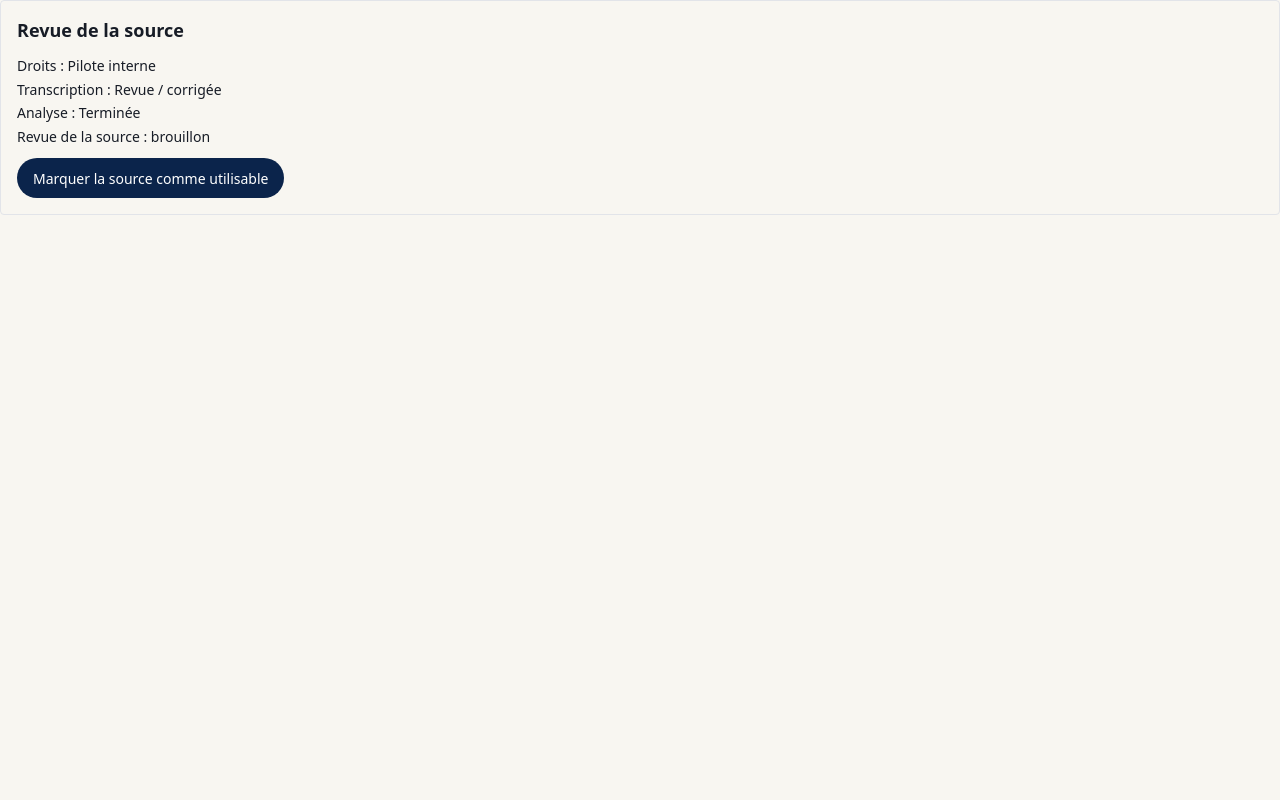
Test: explicit source review › displays server refusal REVIEWED_TRANSCRIPTION_REQUIRED
Click the button "Marquer la source comme utilisable" at {"x": 151, "y": 178}, box [17, 158, 284, 198]
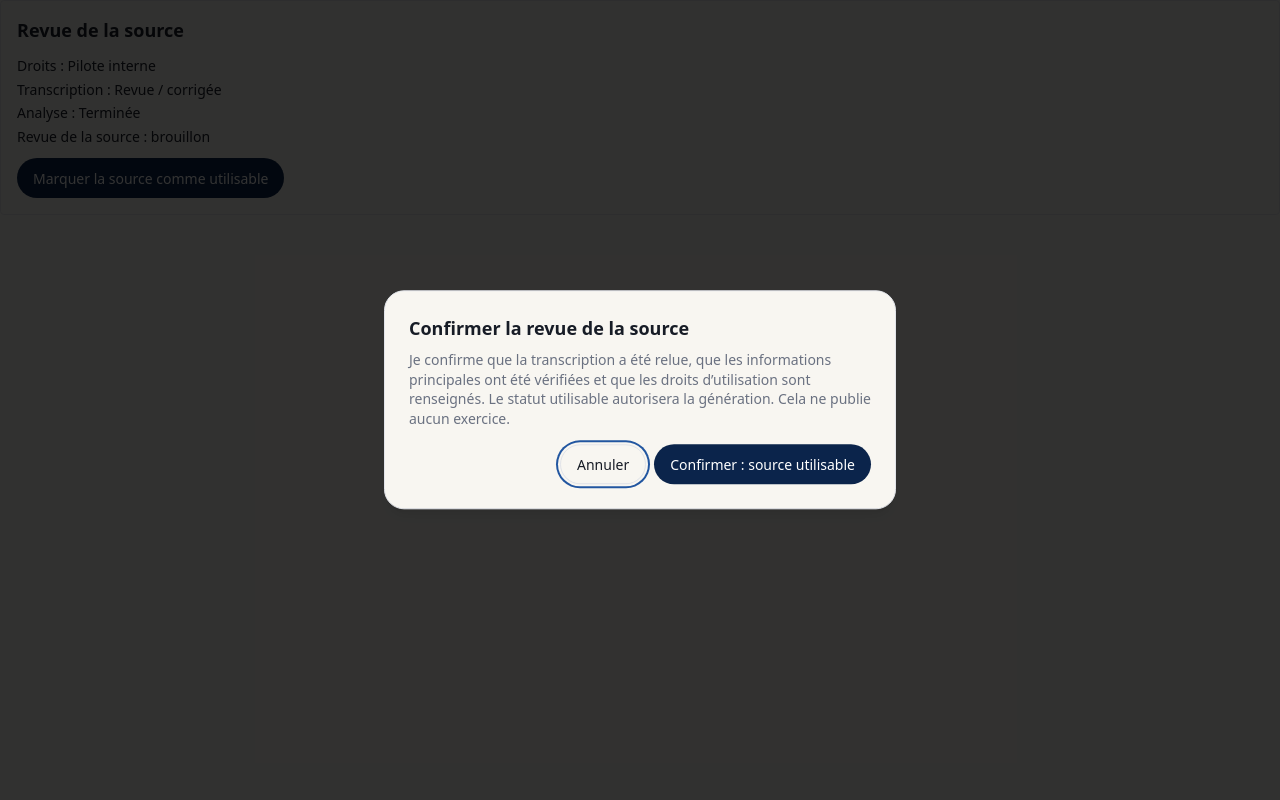
Expected: the button "Confirmer : source utilisable" is shown
Click the button "Confirmer : source utilisable" at {"x": 763, "y": 465}, box [654, 445, 871, 485]
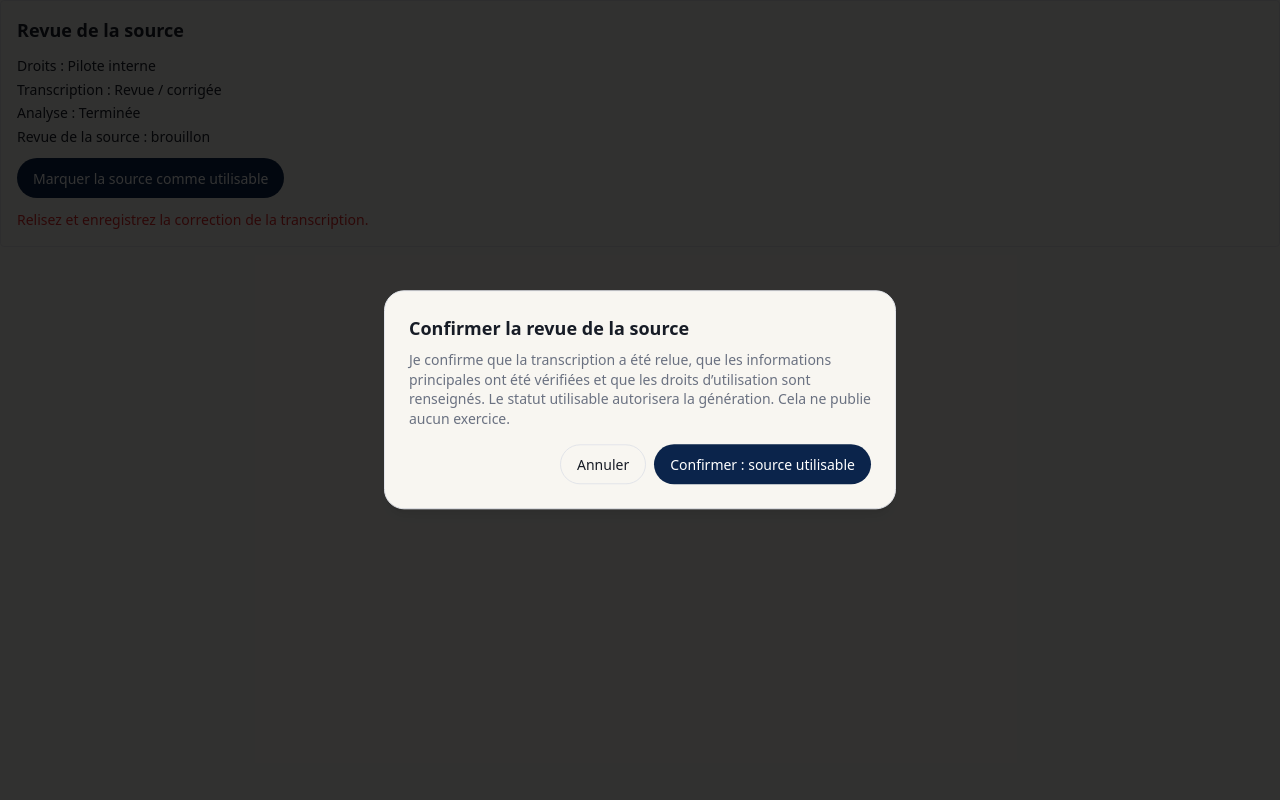
Expected: the message "Relisez et enregistrez la correction de la transcription." is shown, [17, 210, 368, 229]
